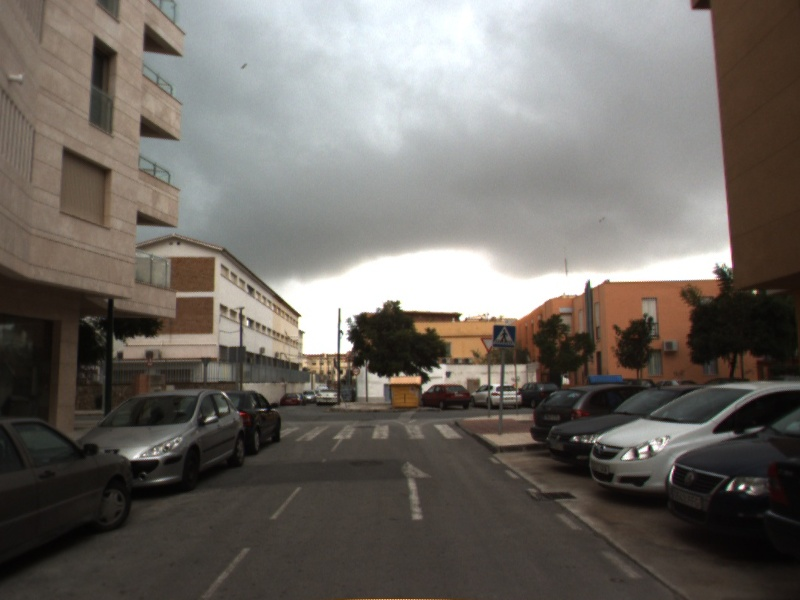STRAIGHT: (399, 458, 435, 521)
